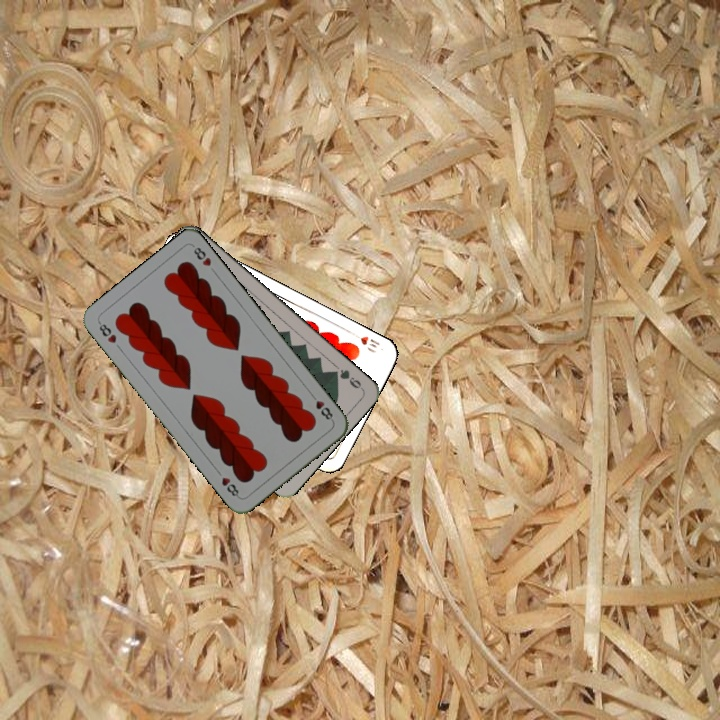G9: (328, 365, 365, 392)
H10: (347, 328, 382, 355)
H8: (306, 390, 336, 424), (94, 318, 119, 346)
